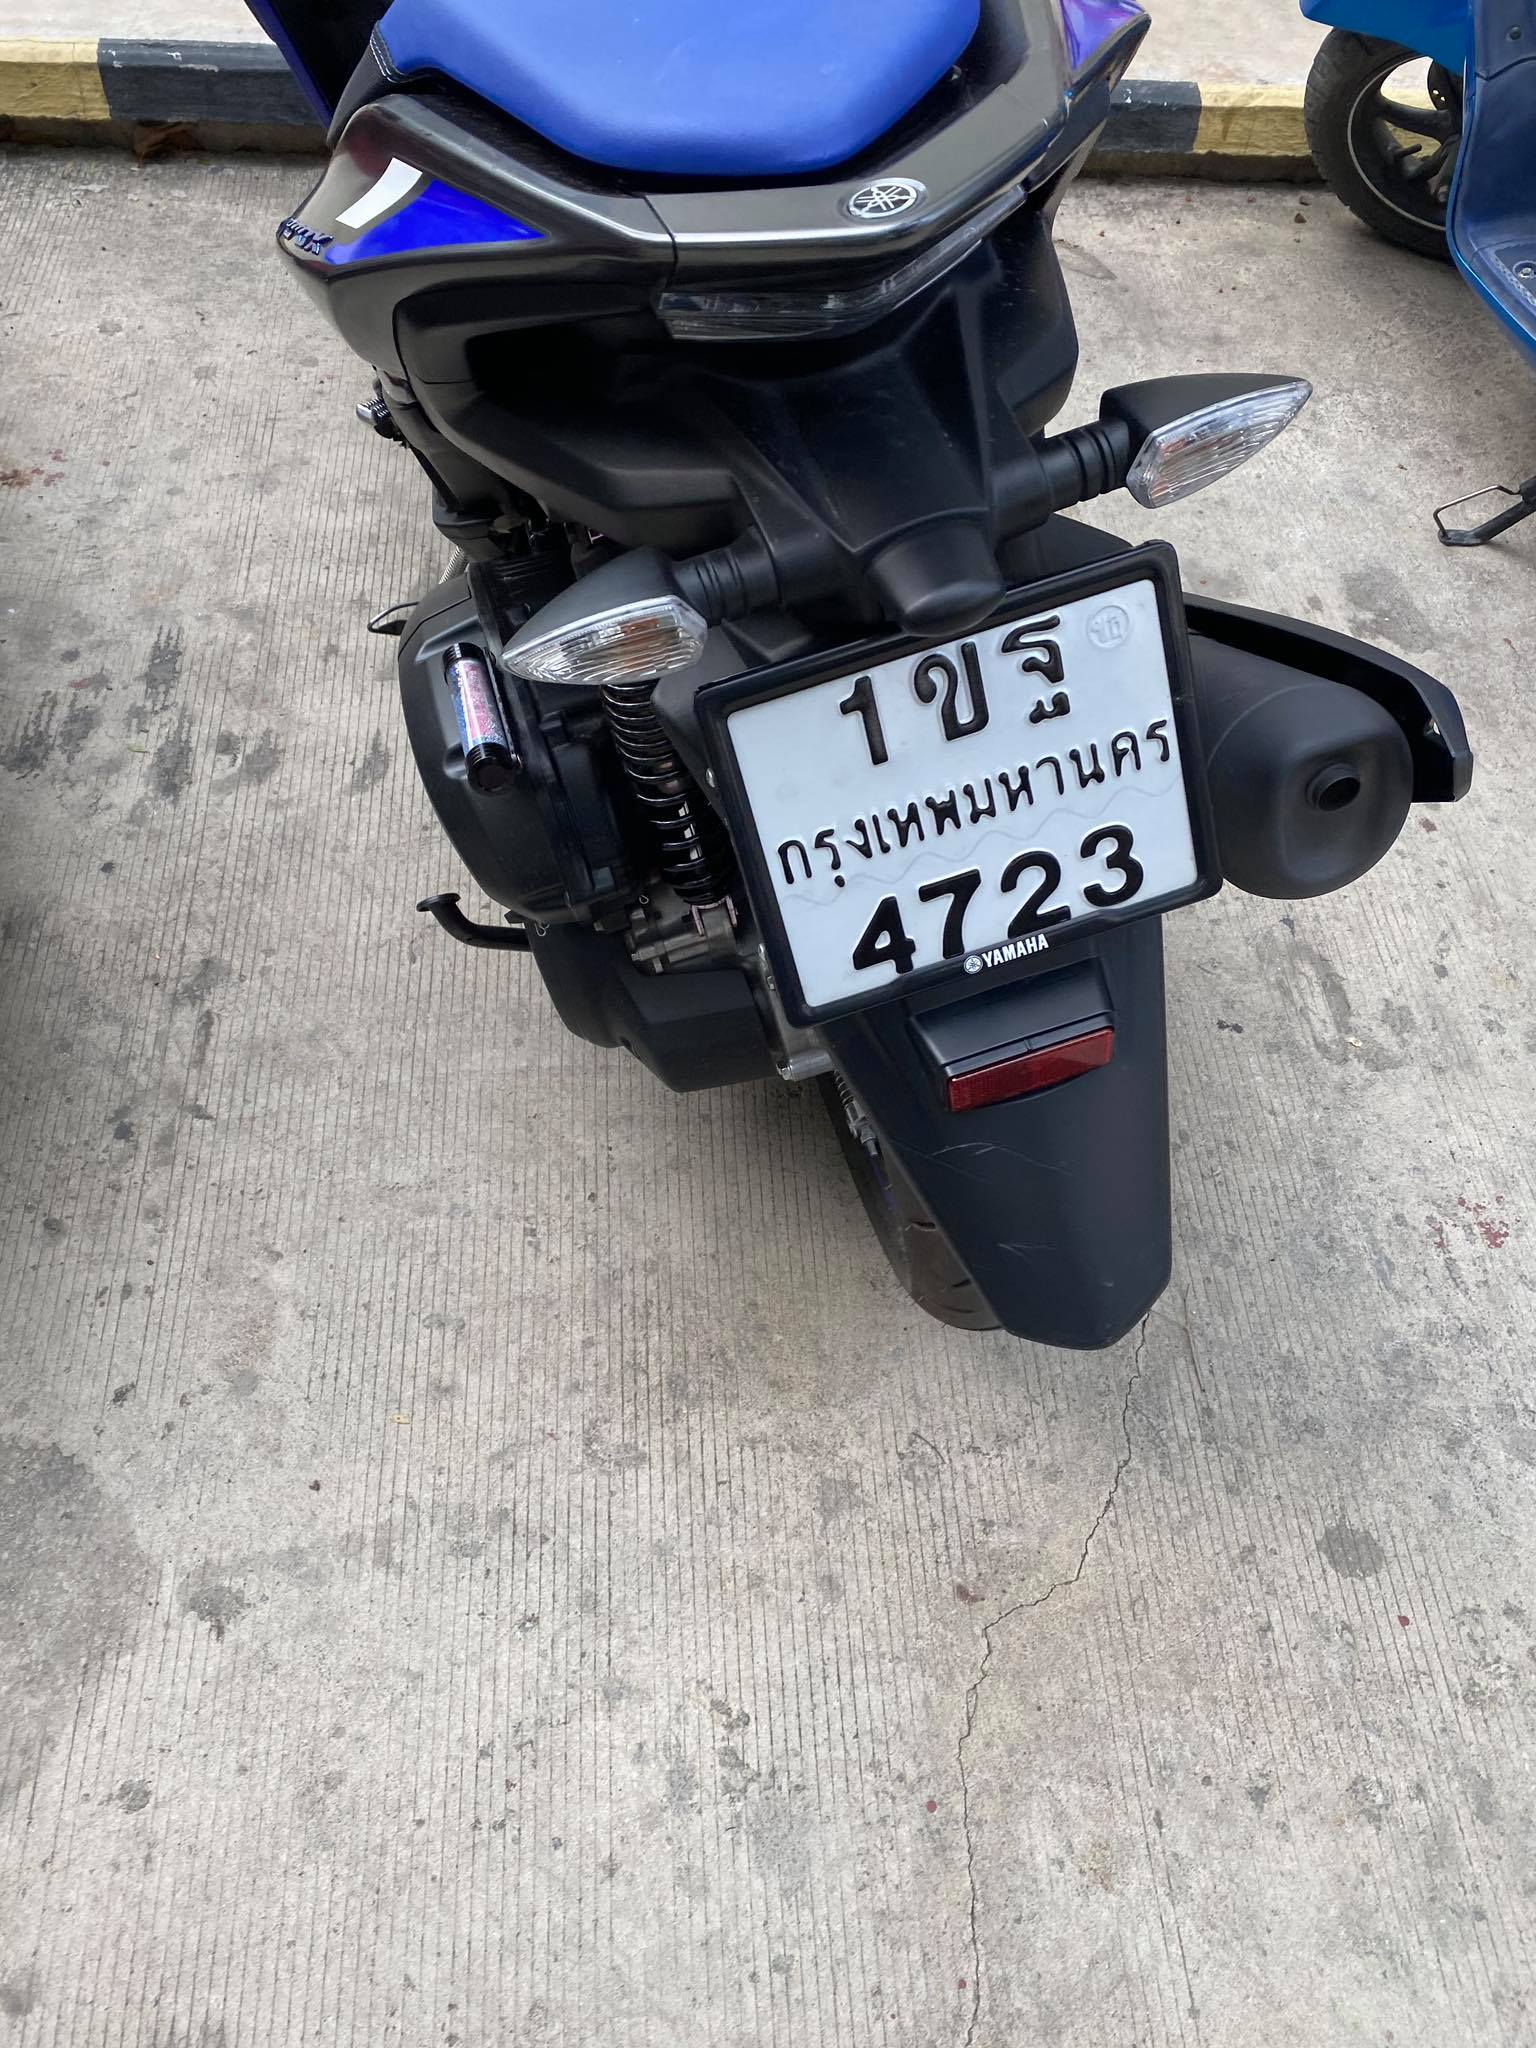line1: (836, 608, 1075, 777)
line2: (747, 727, 1191, 885)
line3: (860, 835, 1163, 971)
